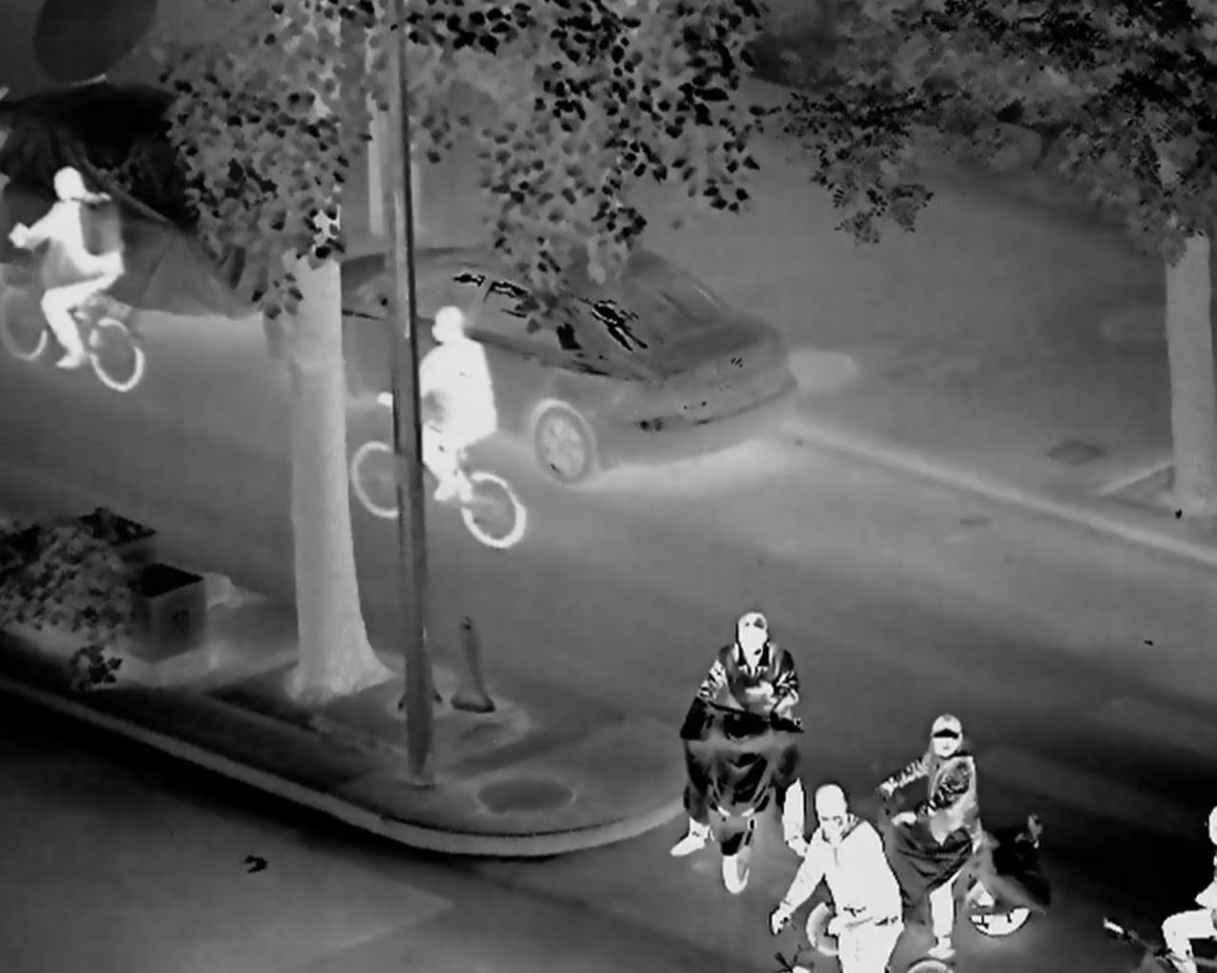person: (677, 592, 811, 896), (879, 689, 1014, 969), (379, 294, 512, 513), (10, 163, 136, 374), (771, 781, 902, 973), (1158, 806, 1217, 973)
